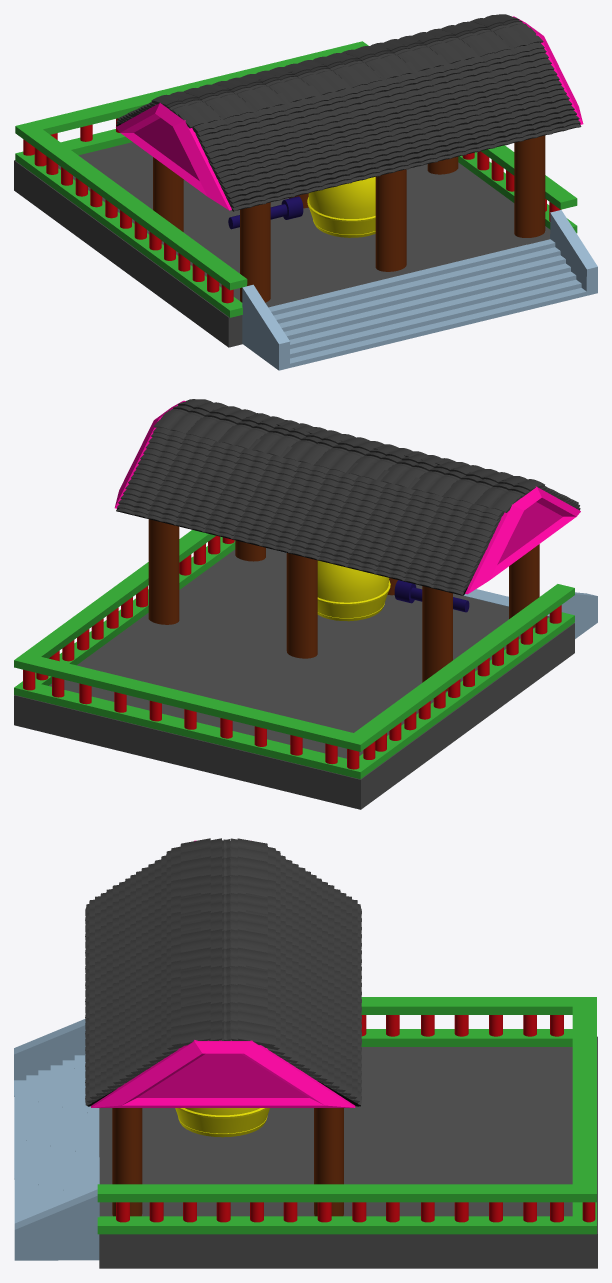
File: 제야의종모델링.fbx
3 renders of one model, top to bottom at view 1: azimuth 30°, elevation 25°; view 2: azimuth 150°, elevation 25°; view 3: azimuth 270°, elevation 25°, orthographic. The views are drawn at different scales.
Parts seen in each view (by area): view 1: 바닥, 앞계단, 사이드벽, 기둥-1, 지붕사이드-2, 사이드기둥, 종, 종망치, Box678, Box684, Box630, Box654 (+7 smaller); view 2: 바닥, 사이드벽, 기둥-1, 사이드기둥, 지붕사이드-2, 종, 앞계단, 종망치, Box625, Box685, Box631, Box679 (+5 smaller); view 3: 바닥, 사이드벽, 앞계단, 지붕사이드-2, 사이드기둥, 기둥-1, 종, Box685, Box684, Box654, Box678, Box679 (+4 smaller).
Boxes of the visible parts, box(x1,y1,x2,y2) form: 바닥: box(14, 142, 550, 347); 앞계단: box(242, 210, 597, 370); 사이드벽: box(15, 41, 577, 317); 기둥-1: box(153, 135, 545, 302); 지붕사이드-2: box(116, 16, 583, 210); 사이드기둥: box(23, 118, 560, 303); 종: box(307, 177, 375, 237); 종망치: box(228, 196, 303, 229); Box678: box(466, 35, 510, 56); Box684: box(499, 27, 543, 48); Box630: box(210, 98, 253, 119); Box654: box(338, 66, 382, 88); 바닥: box(14, 548, 574, 809); 사이드벽: box(14, 530, 574, 779); 기둥-1: box(148, 519, 539, 691); 사이드기둥: box(23, 535, 561, 769); 지붕사이드-2: box(114, 400, 580, 594); 종: box(317, 560, 390, 621); 앞계단: box(286, 552, 597, 638); 종망치: box(394, 580, 469, 612); Box625: box(474, 490, 518, 512); Box685: box(153, 412, 197, 433); Box631: box(442, 482, 485, 504); Box679: box(186, 420, 229, 441); 바닥: box(99, 1036, 597, 1268); 사이드벽: box(97, 997, 596, 1234); 앞계단: box(14, 1019, 99, 1260); 지붕사이드-2: box(91, 840, 355, 1107); 사이드기둥: box(116, 1015, 595, 1222); 기둥-1: box(112, 1108, 343, 1216); 종: box(175, 1108, 269, 1137); Box685: box(237, 1020, 267, 1045); Box684: box(180, 1020, 210, 1045); Box654: box(180, 929, 210, 952); Box678: box(180, 1002, 210, 1025); Box679: box(237, 1002, 267, 1025).
Size of the model in its own units: 291 by 151 by 342.
